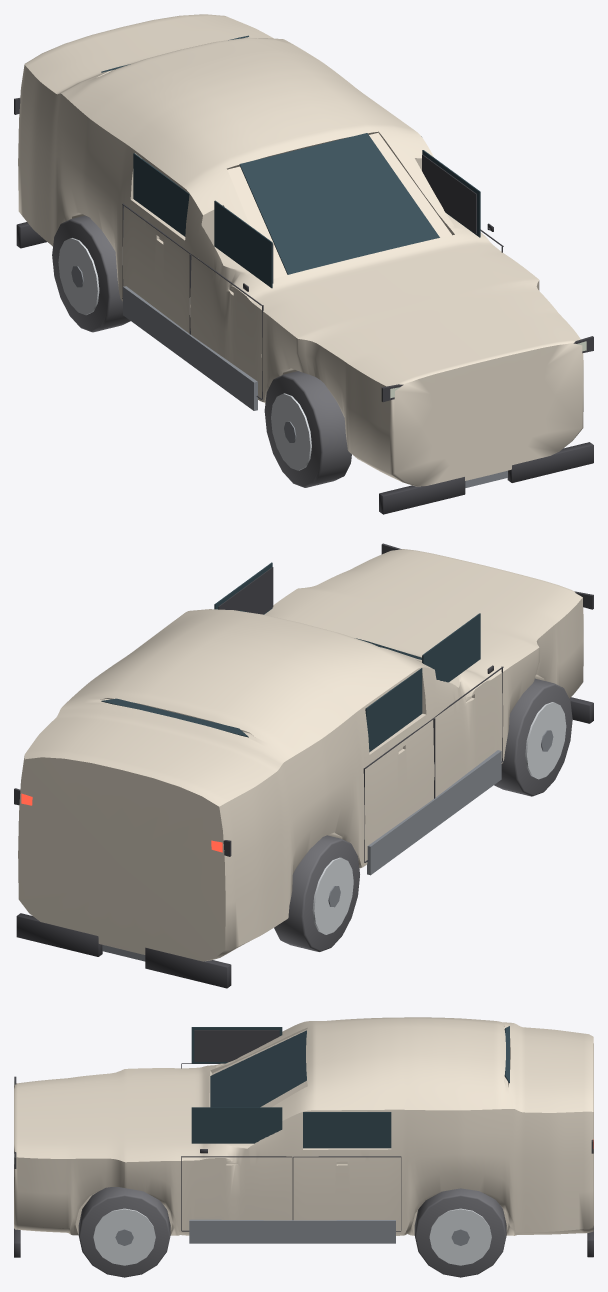
The model's file is Crossover_Compact_22.fbx.
The picture shows the model from 3 angles, top to bottom: view 1: azimuth 30°, elevation 25°; view 2: azimuth 150°, elevation 25°; view 3: azimuth 270°, elevation 25°; orthographic projection. The views are drawn at different scales.
Visible parts, largest first — view 1: LOD0; view 2: LOD0; view 3: LOD0.
Part boxes in pixels (x1,y1,x2,y2): LOD0: (14, 14, 593, 514); LOD0: (14, 543, 593, 988); LOD0: (14, 1017, 593, 1277).
Size of what is drawn, in the model's own units: 189 by 168 by 466.
